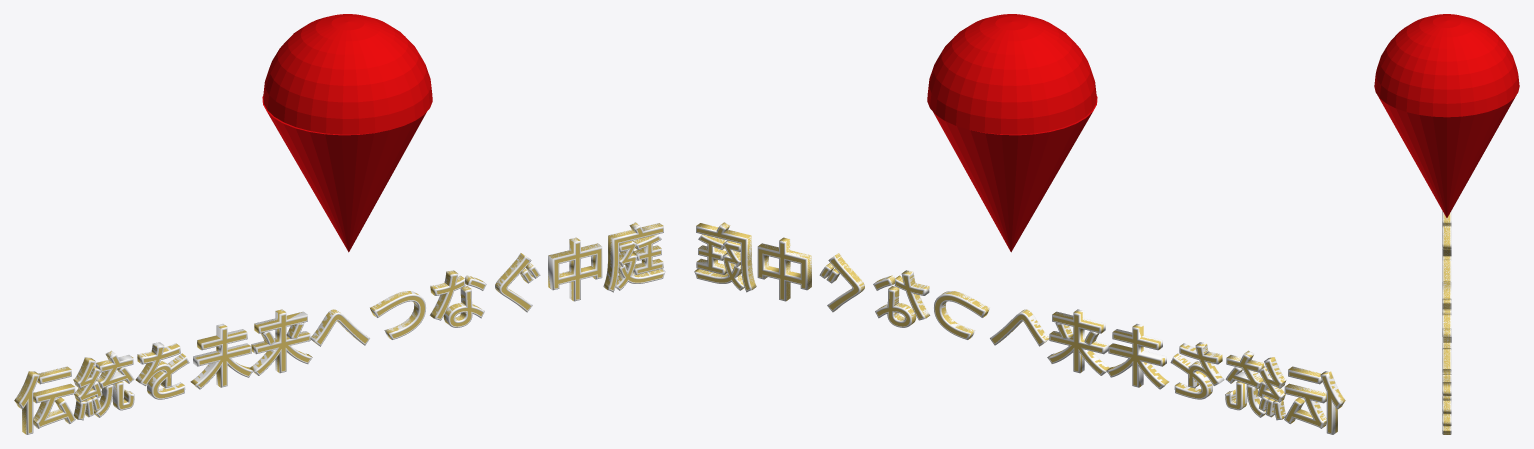
File: QTtitlePin.glb
3 views of the same model, side by side, from view 1: azimuth 30°, elevation 25°; view 2: azimuth 150°, elevation 25°; view 3: azimuth 270°, elevation 25° (orthographic). The views are drawn at different scales.
Visible parts, largest first — view 1: 球体, テキスト.001, テキスト, 锥体; view 2: 球体, テキスト, テキスト.001, 锥体; view 3: 球体, 锥体, テキスト, テキスト.001.
Part boxes in pixels (bbox=[...]): 球体: bbox=[263, 14, 432, 134]; テキスト.001: bbox=[14, 222, 665, 434]; テキスト: bbox=[14, 222, 663, 434]; 锥体: bbox=[262, 96, 426, 252]; 球体: bbox=[927, 14, 1096, 134]; テキスト: bbox=[695, 222, 1345, 433]; テキスト.001: bbox=[694, 222, 1345, 434]; 锥体: bbox=[933, 96, 1097, 252]; 球体: bbox=[1374, 14, 1519, 117]; 锥体: bbox=[1377, 95, 1516, 217]; テキスト: bbox=[1443, 213, 1450, 434]; テキスト.001: bbox=[1442, 211, 1451, 434].
Bounding box in the file's own units: 8.8 × 4.33 × 2.
